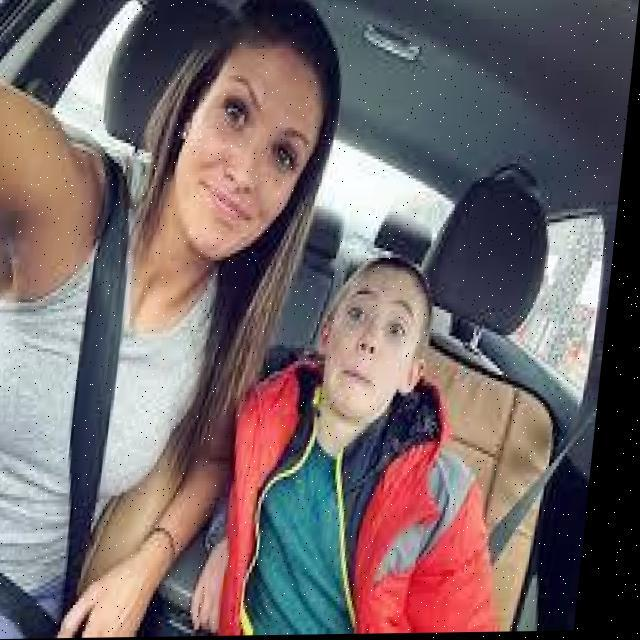noSeatbelt: (226, 388, 484, 637)
seatbelt: (0, 162, 215, 617)
